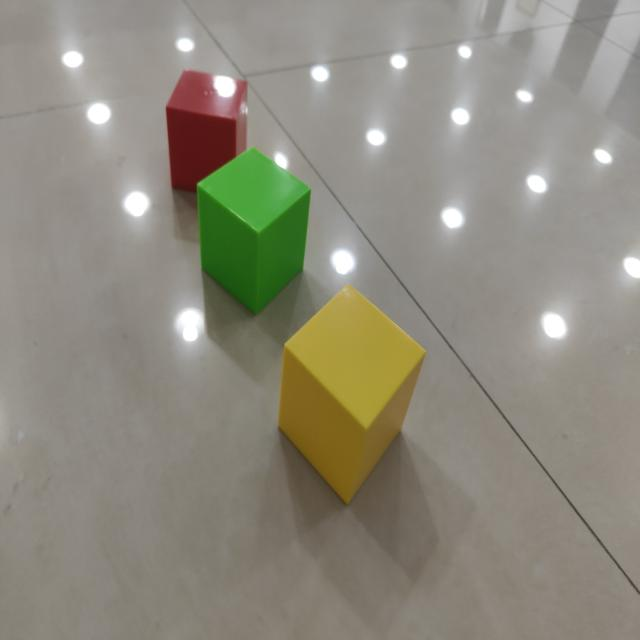green: (196, 149, 312, 317)
red: (165, 71, 250, 193)
yellow: (277, 287, 427, 505)
